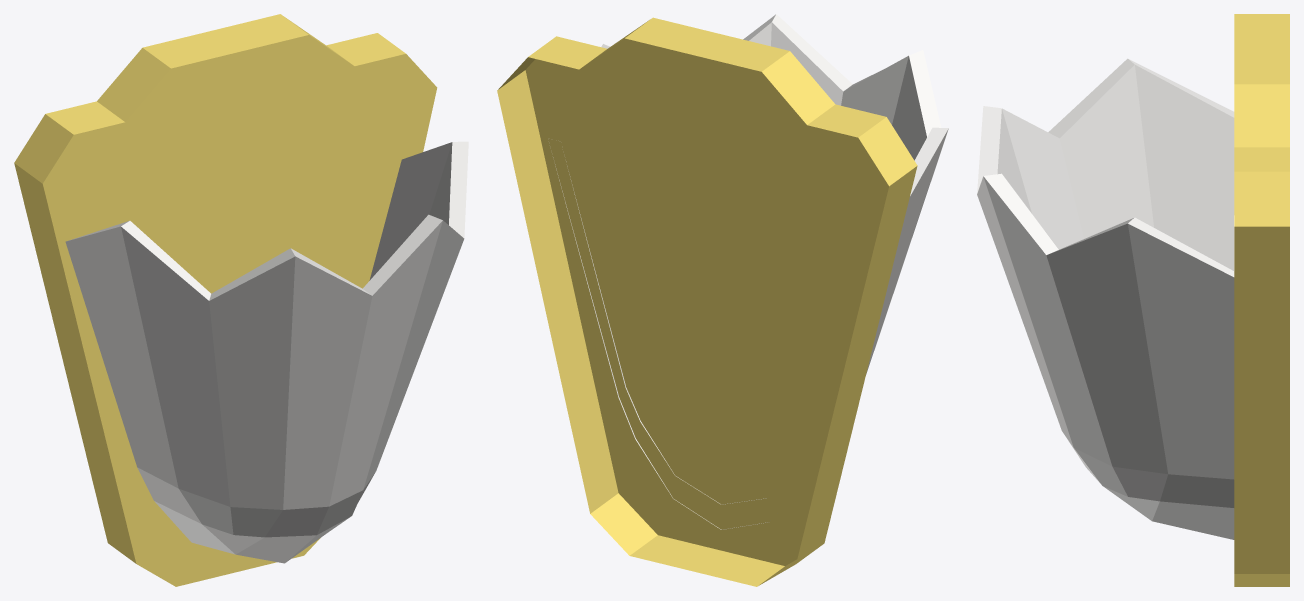
Rendered from Wall_lamp_1.fbx.
3 renders of one model, left to right at view 1: azimuth 30°, elevation 25°; view 2: azimuth 150°, elevation 25°; view 3: azimuth 270°, elevation 25°, orthographic. The views are drawn at different scales.
Parts seen in each view (by area): view 1: Wall_lamp_1; view 2: Wall_lamp_1; view 3: Wall_lamp_1.
Boxes of the visible parts, x1,y1,x2,y2 form: Wall_lamp_1: (14,14,468,586); Wall_lamp_1: (497,14,948,586); Wall_lamp_1: (977,14,1289,586).
Bounding box in the file's own units: 28.65 × 20.24 × 36.05.
